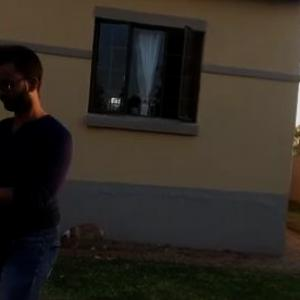follow: (0, 38, 80, 299)
null: (56, 218, 120, 255)
